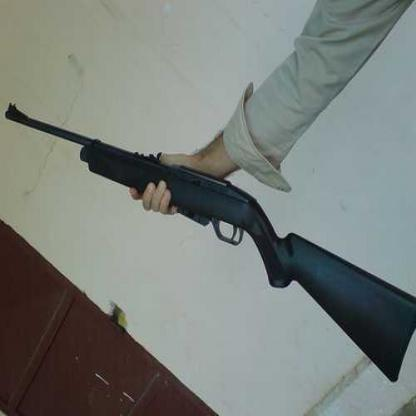rifle: (4, 91, 415, 390)
